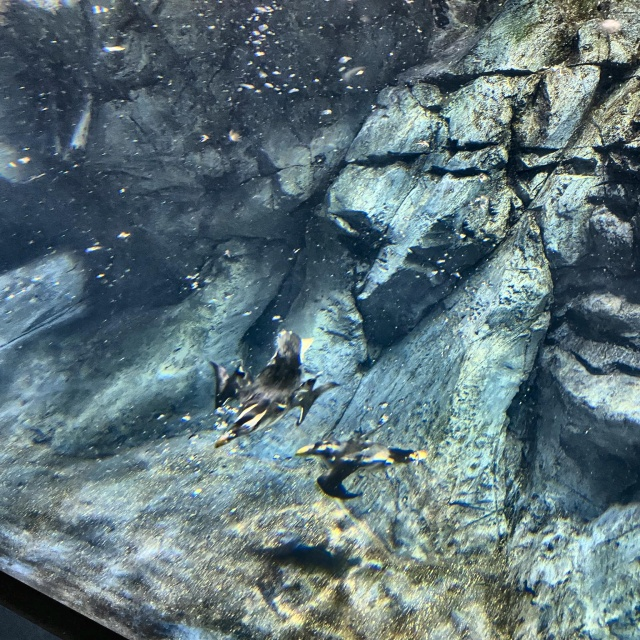puffin: (213, 332, 340, 448), (296, 430, 428, 498)
